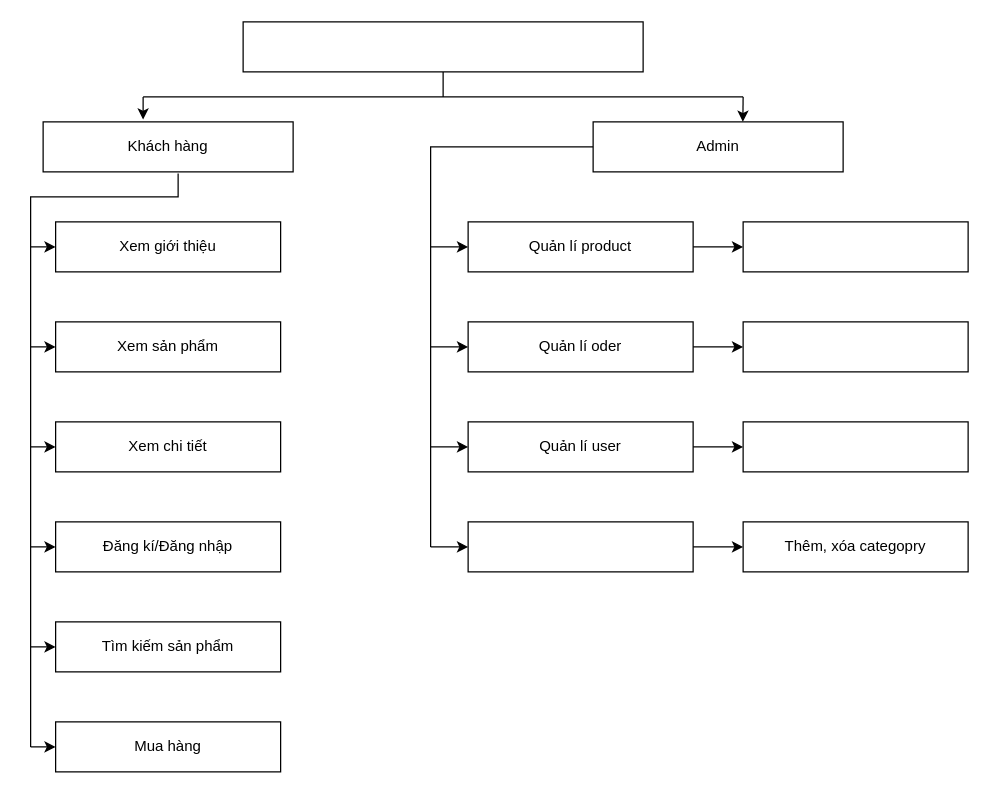
Image size: 990x794. Some labels were removed from this diagram. Each missing label, with the centre of its shape:
Quản lí category: the point at 580,546
Quản lí website sàn thương mại điện tử: the point at 442,46
Sửa, xóa oder: the point at 855,346
Sửa, xóa user: the point at 855,446
Thêm sửa xóa product: the point at 855,246
